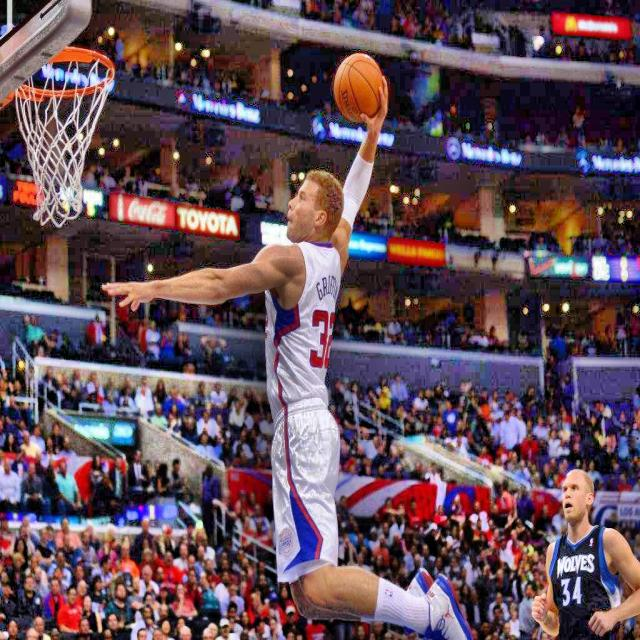board: (333, 54, 384, 122)
rim: (17, 47, 113, 226)
